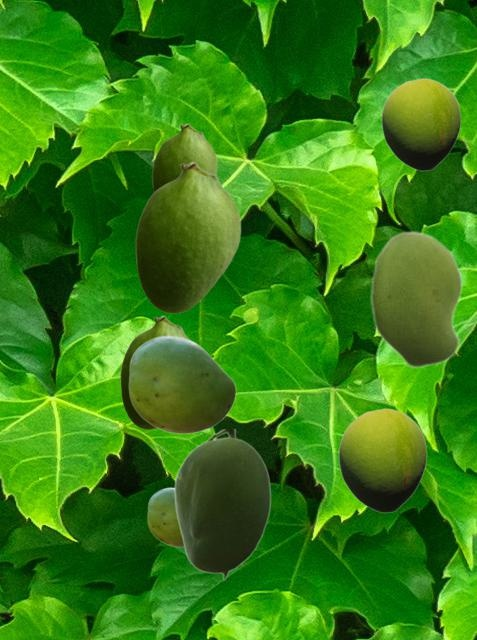green_mango: (135, 161, 240, 312), (173, 429, 270, 580), (370, 230, 462, 368), (128, 335, 235, 433), (338, 408, 426, 512), (120, 315, 189, 428), (381, 78, 460, 170), (152, 123, 216, 191), (147, 487, 182, 546)
